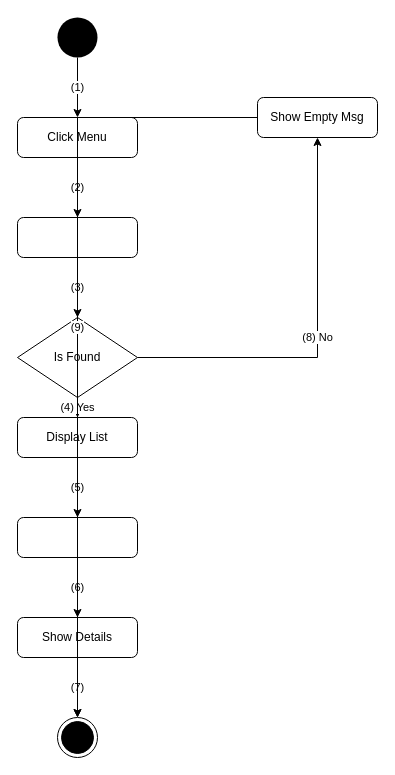
The diagram is 395 pixels wide and 775 high, and some of its shapes have lost their labels. The shapes that lost their labels are listed below. From the top down, each one's box as (x1, y1, x2, y2) in pixels, then its label:
(16, 216, 138, 258): Query DB
(16, 516, 138, 558): Click Report
